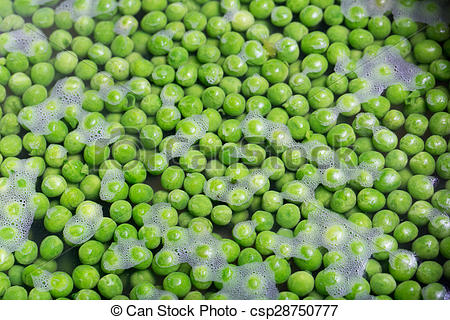boiled peas: (65, 43, 435, 277)
